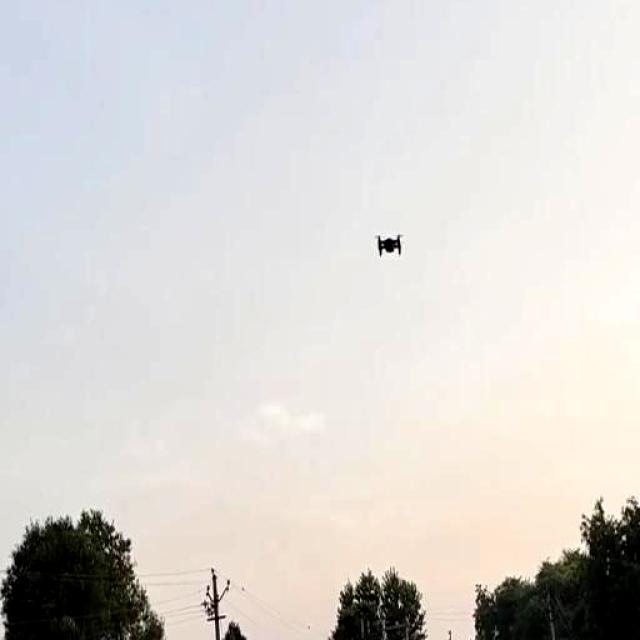bird: (372, 226, 406, 275)
